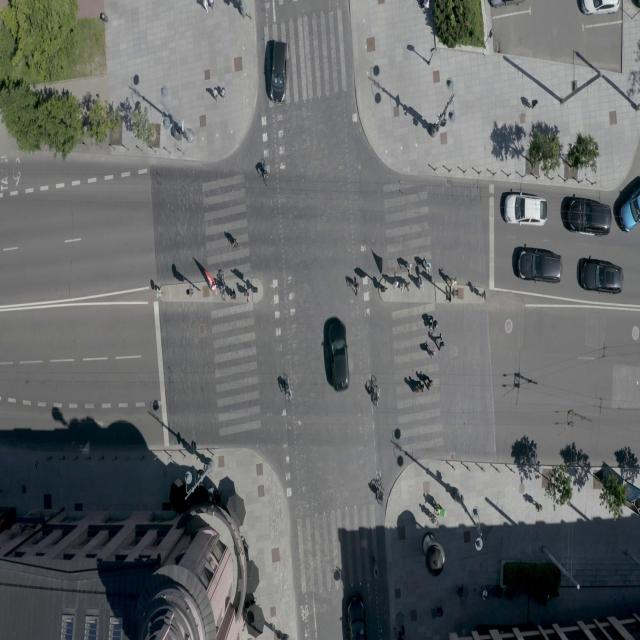Car: (566, 196, 612, 237), (326, 319, 351, 392), (516, 248, 564, 286), (502, 191, 548, 227), (580, 258, 624, 294), (617, 188, 640, 236)
Cycle: (369, 373, 381, 409), (374, 472, 386, 506), (259, 156, 271, 190), (282, 372, 294, 402)
Van: (270, 41, 289, 106)
